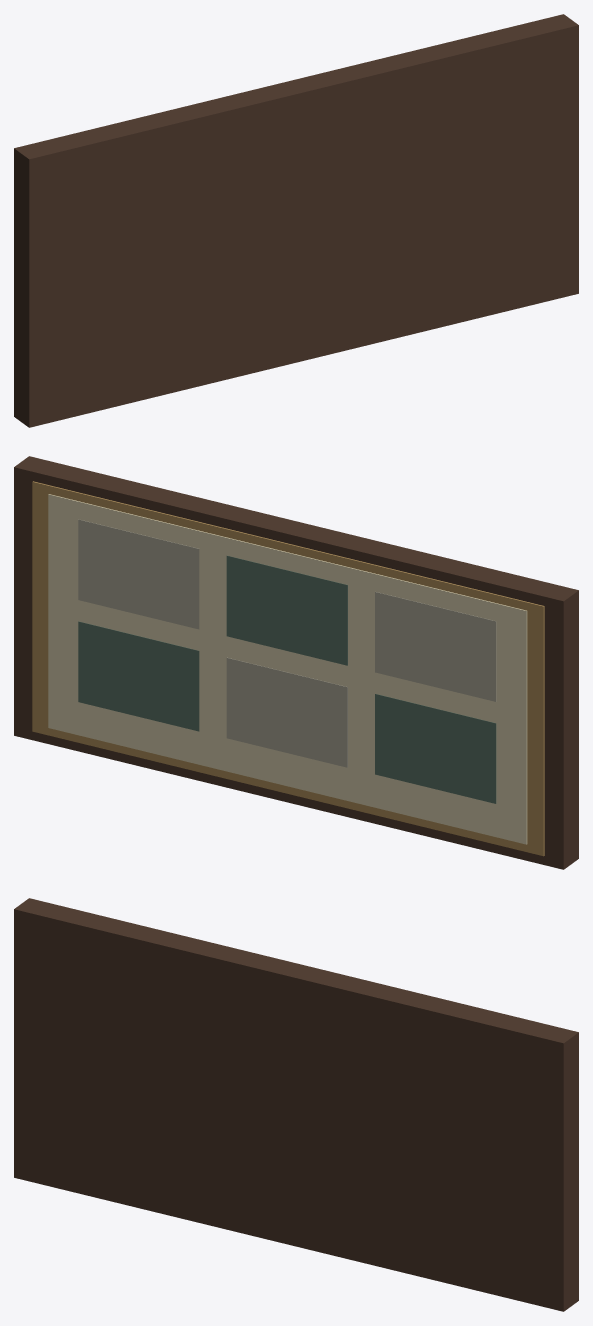
Rendered from LP_MaintenanceSouth_NoticeBoard.fbx.
3 renders of one model, top to bottom at view 1: azimuth 30°, elevation 25°; view 2: azimuth 150°, elevation 25°; view 3: azimuth 330°, elevation 25°, orthographic.
Parts seen in each view (by area): view 1: Walnut; view 2: WarmIvory, Walnut, M_Museum_DustCloth, SageUpholstery, AgedBrass; view 3: Walnut.
Boxes of the visible parts, x1=… form: Walnut: x1=14, y1=14, x2=578, y2=427; WarmIvory: x1=48, y1=494, x2=527, y2=844; Walnut: x1=14, y1=456, x2=578, y2=869; M_Museum_DustCloth: x1=78, y1=519, x2=496, y2=767; SageUpholstery: x1=78, y1=555, x2=496, y2=803; AgedBrass: x1=32, y1=481, x2=544, y2=856; Walnut: x1=14, y1=898, x2=578, y2=1311.
Size of the model in its own units: 150 by 70 by 8.
